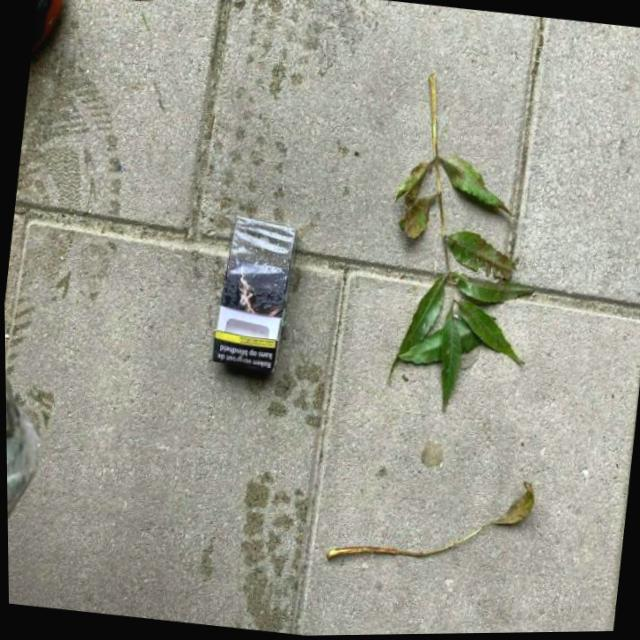Paper: (206, 212, 302, 378)
